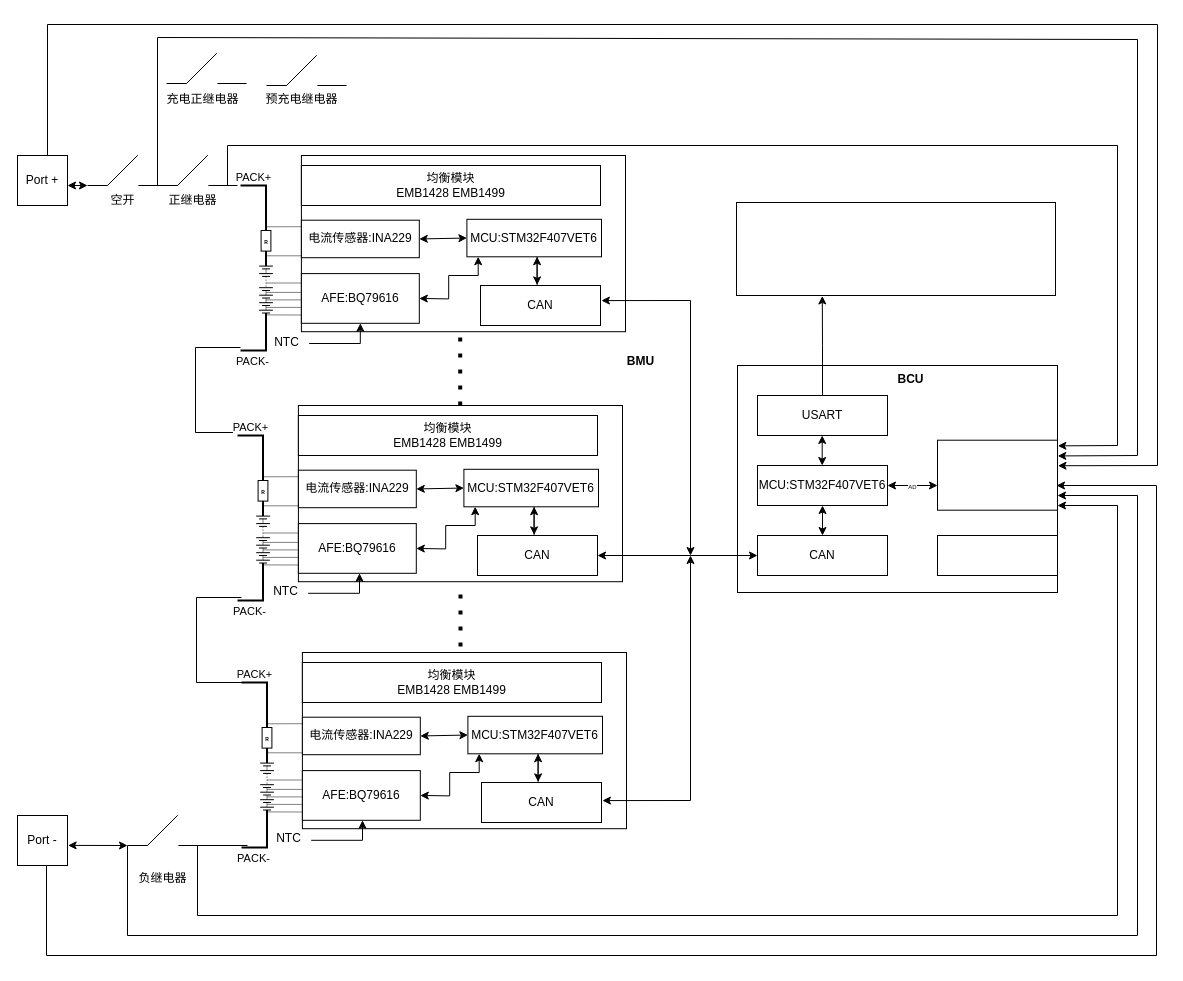
Some shapes in this 1183 by 981 pixel diagram are drawn without their labels. Each missing label, with the centre of its shape:
RS485: (997,555)
屏幕: (896,249)
隔离差分运放: (997,474)
